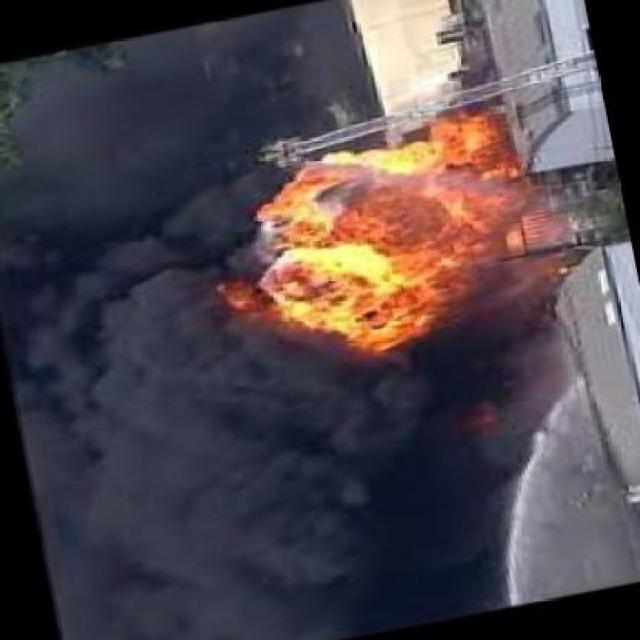Fire: (226, 106, 552, 357)
Smoke: (0, 54, 257, 640), (207, 345, 591, 640), (199, 19, 423, 124)
